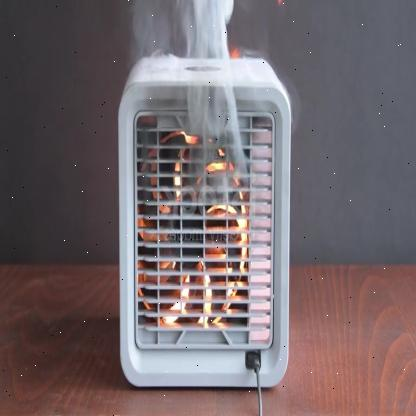smoke: (124, 0, 248, 178)
